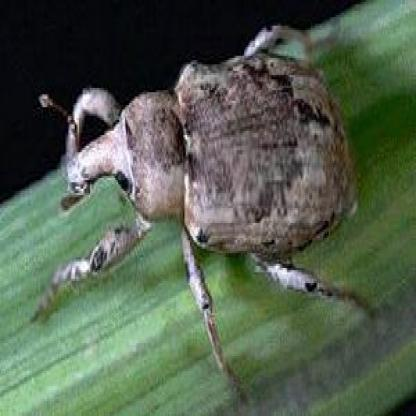rice-bug: (50, 22, 353, 316)
